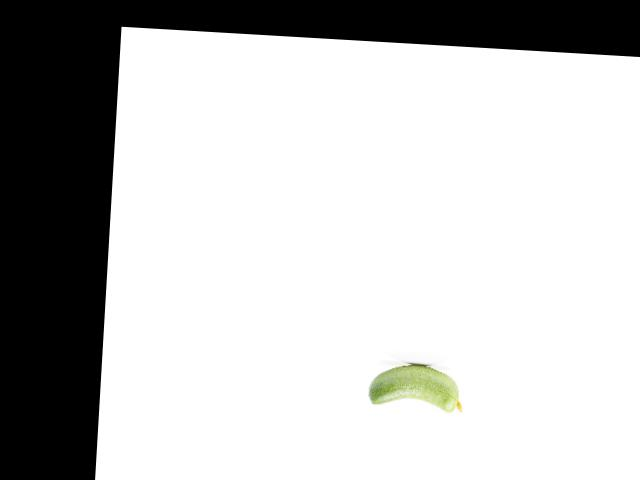cucumber: (366, 361, 465, 413)
